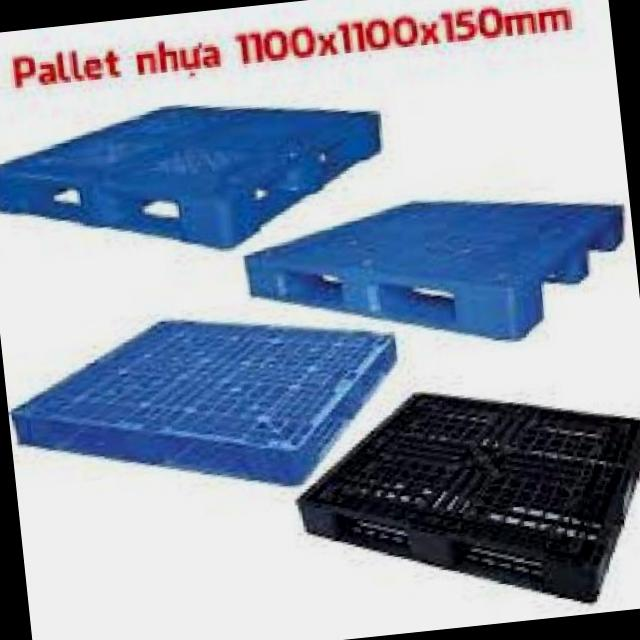pallet: (283, 355, 640, 636), (2, 293, 419, 516), (236, 173, 640, 371), (0, 78, 394, 270)
